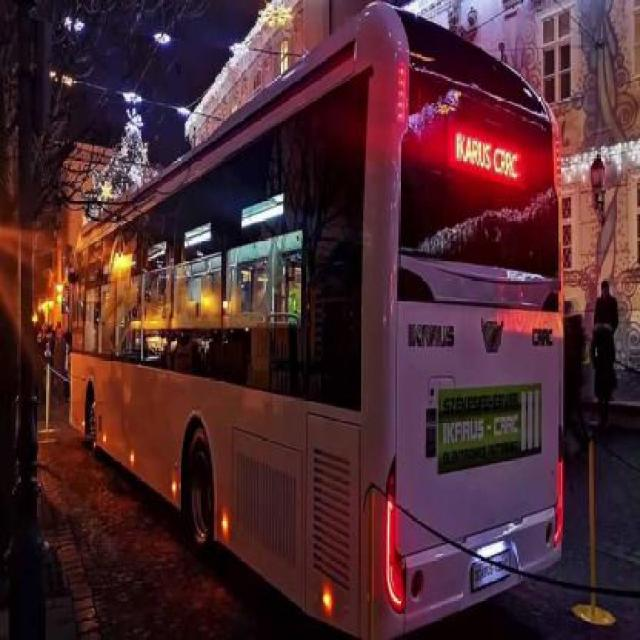bus: (67, 14, 563, 633)
